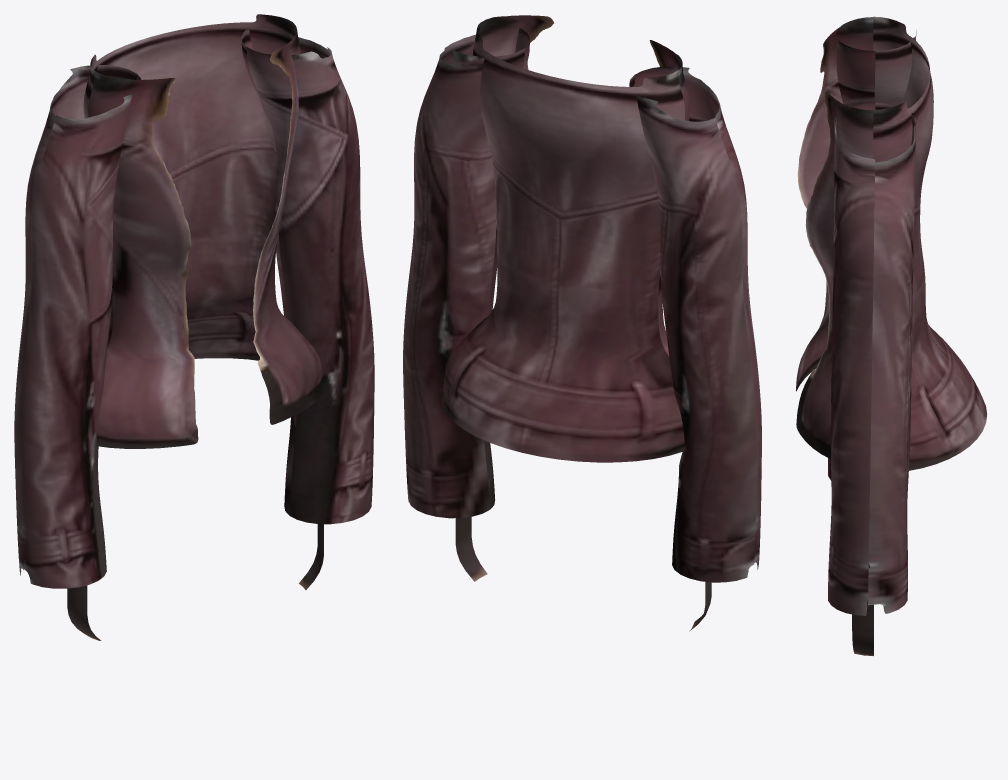
Rendered from prod-ae-burgundy-leather-trench.glb.
3 renders of one model, left to right at view 1: azimuth 30°, elevation 25°; view 2: azimuth 150°, elevation 25°; view 3: azimuth 270°, elevation 25°, orthographic. The views are drawn at different scales.
Parts seen in each view (by area): view 1: prod-ae-burgundy-leather-trench; view 2: prod-ae-burgundy-leather-trench; view 3: prod-ae-burgundy-leather-trench.
Part boxes in pixels (left/top/right/bottom): prod-ae-burgundy-leather-trench: left=14, top=14, right=374, bottom=640; prod-ae-burgundy-leather-trench: left=403, top=15, right=761, bottom=631; prod-ae-burgundy-leather-trench: left=796, top=16, right=987, bottom=656.
Size of the model in its own units: 0.4267 by 0.802 by 0.2227.
1 material, 1 textured.
